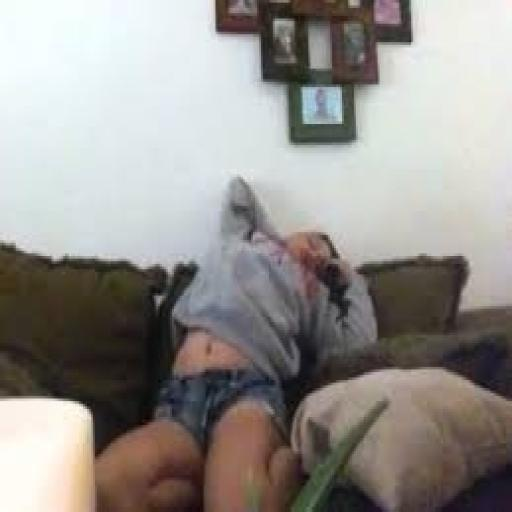sleeping: (93, 172, 379, 510)
